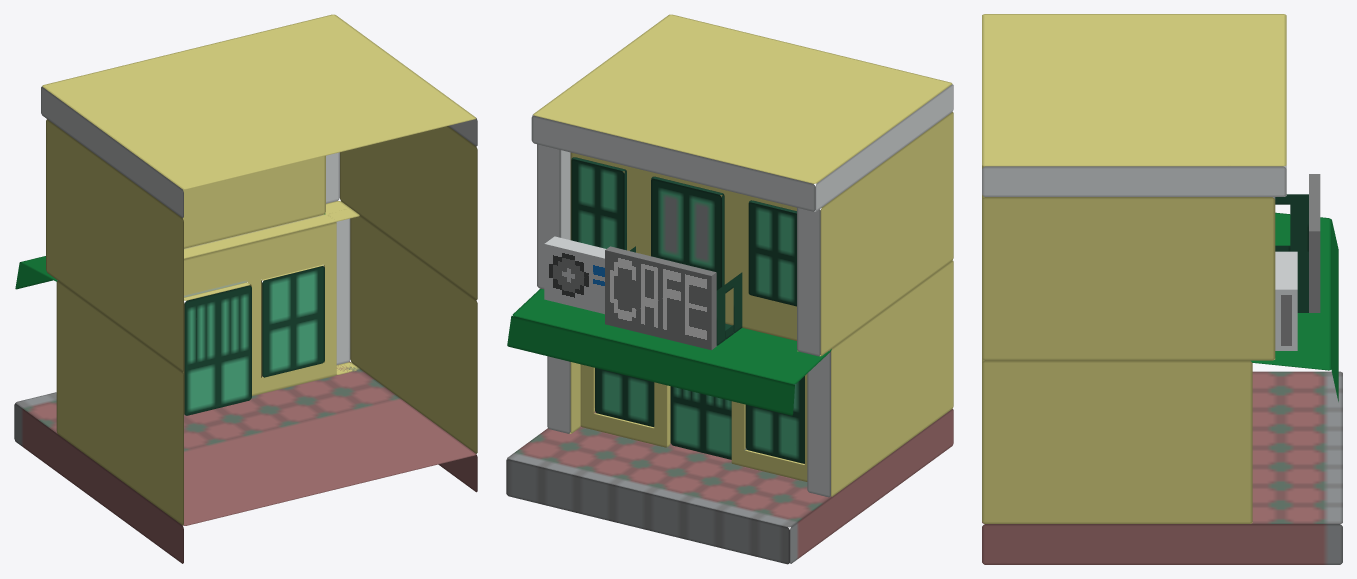
File: House 3.fbx
3 views of the same model, side by side, from view 1: azimuth 30°, elevation 25°; view 2: azimuth 150°, elevation 25°; view 3: azimuth 270°, elevation 25° (orthographic). The views are drawn at different scales.
Parts seen in each view (by area): view 1: House, SideRoad, plane; view 2: House, SideRoad, plane, Banner, cuboid_2, cuboid, cuboid_1, AC, plane_1; view 3: House, SideRoad, plane, AC, plane_1, Banner.
Boxes of the visible parts, <box> form: House: <box>41,14,477,525</box>; SideRoad: <box>14,361,477,563</box>; plane: <box>15,213,325,289</box>; House: <box>531,14,953,497</box>; SideRoad: <box>506,409,953,564</box>; plane: <box>507,288,831,415</box>; Banner: <box>605,246,716,350</box>; cuboid_2: <box>651,176,724,290</box>; cuboid: <box>748,200,796,306</box>; cuboid_1: <box>571,157,626,250</box>; AC: <box>544,236,605,314</box>; plane_1: <box>630,246,742,345</box>; House: <box>982,14,1286,523</box>; SideRoad: <box>982,371,1342,564</box>; plane: <box>1250,212,1338,401</box>; AC: <box>1275,251,1297,350</box>; plane_1: <box>1275,194,1308,312</box>; Banner: <box>1309,174,1320,312</box>.
Bounding box in the file's own units: 202 × 244 × 200.
4 materials, 4 textured.
